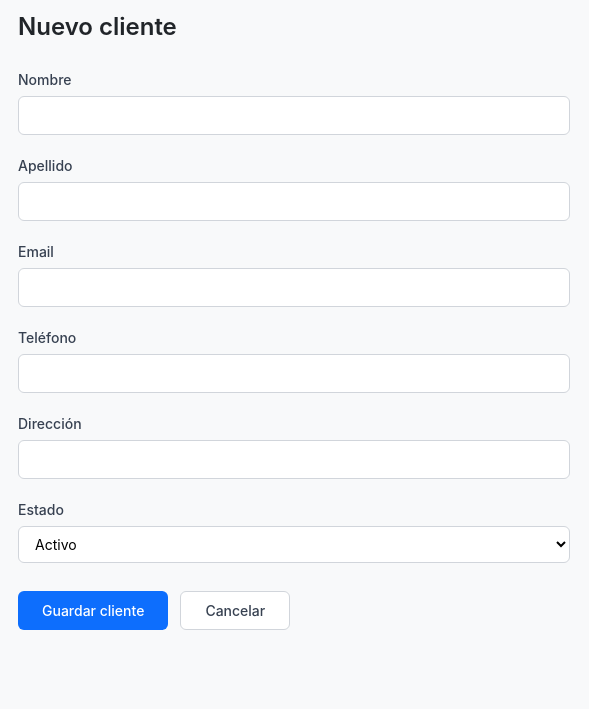
Test: AddCustomerPage › shows error message on failure
This screenshot has width=589, height=709.
In the field labelled "Nombre": (294, 116) [18, 96, 570, 135], type "Carlos"
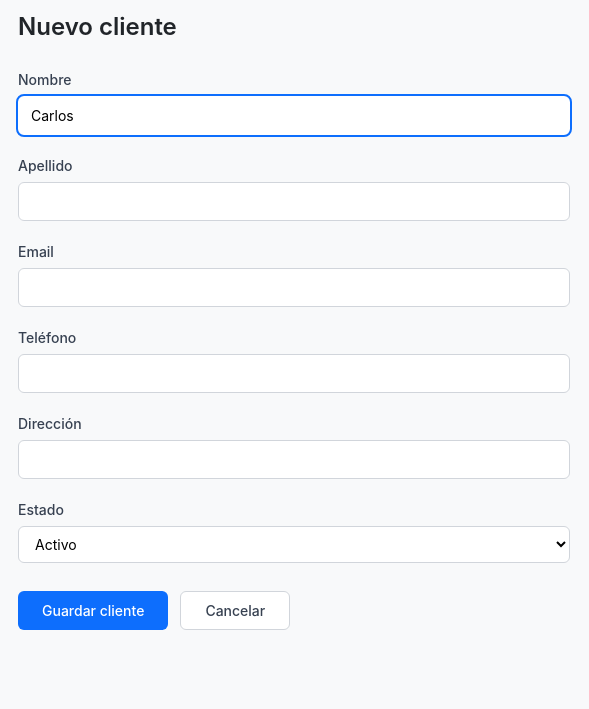
In the field labelled "Apellido": (294, 202) [18, 182, 570, 221], type "López"
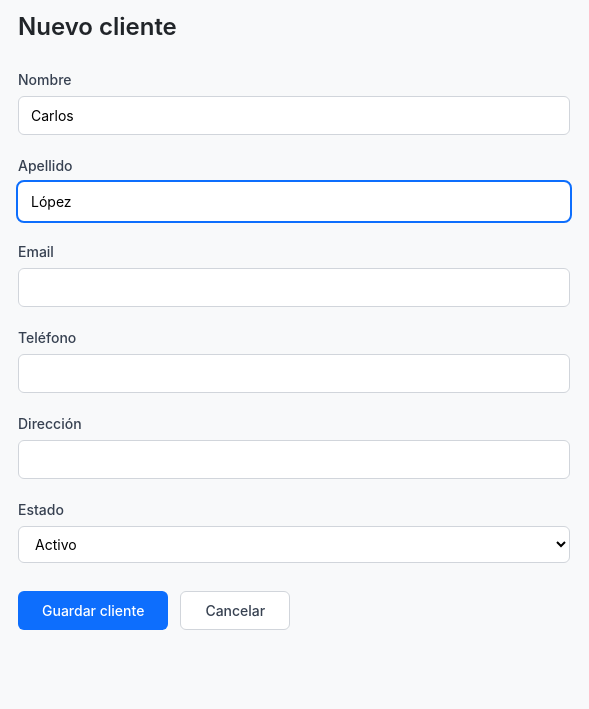
In the field labelled "Email": (294, 288) [18, 268, 570, 307], type "carlos@test.com"
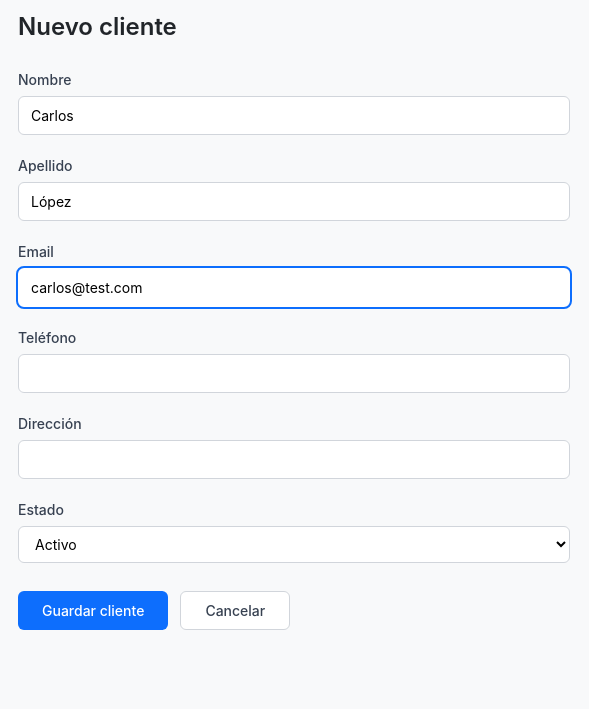
In the field labelled "Teléfono": (294, 374) [18, 354, 570, 393], type "333-3333"
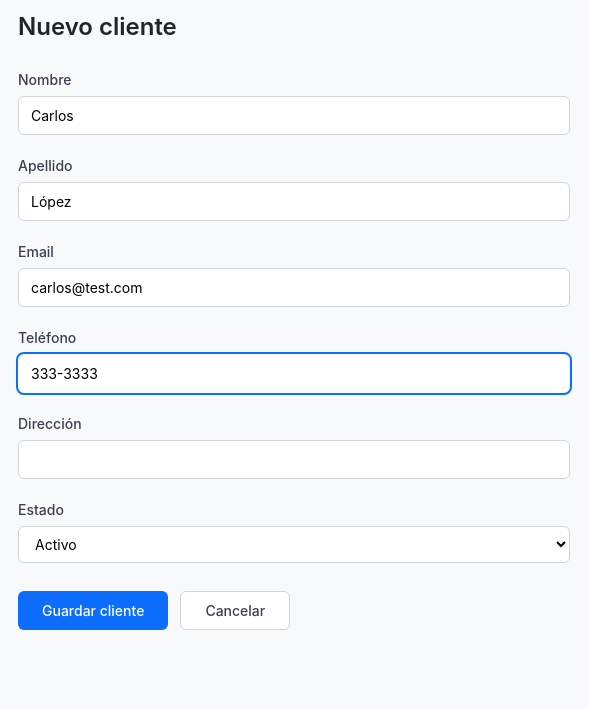
Click the button "Guardar cliente": (93, 610) [18, 591, 168, 630]
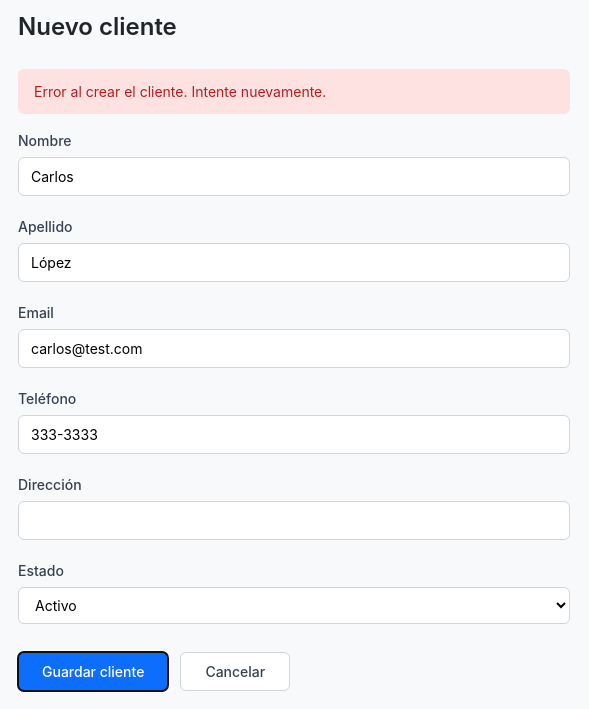
Check: the text "Error al crear el cliente. Intente nuevamente." is shown, box [18, 69, 570, 114]
